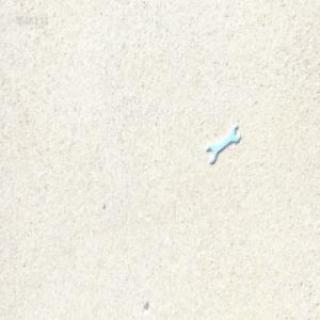Wrenchtrack_idkeyframe: (206, 124, 238, 162)
